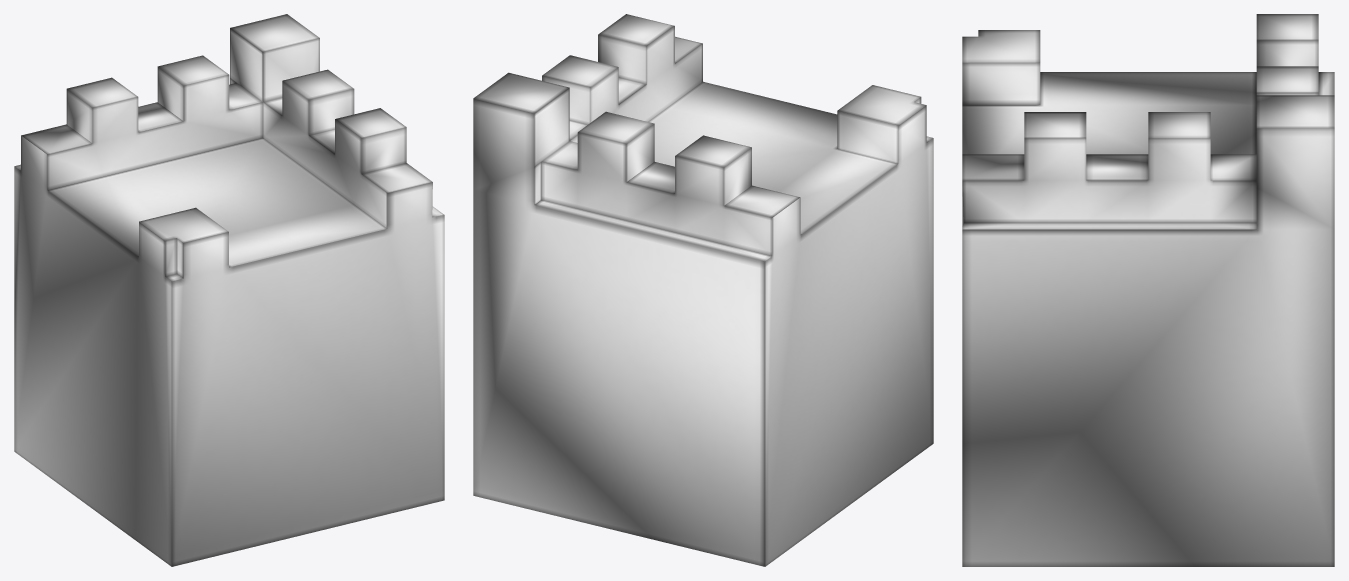
Rendered from Wall-03.fbx.
3 views of the same model, side by side, from view 1: azimuth 30°, elevation 25°; view 2: azimuth 150°, elevation 25°; view 3: azimuth 270°, elevation 25° (orthographic). The views are drawn at different scales.
Parts seen in each view (by area): view 1: Wall-03; view 2: Wall-03; view 3: Wall-03.
Part boxes in pixels (x1,y1,x2,y2): Wall-03: (14,14,444,566); Wall-03: (473,14,933,566); Wall-03: (962,14,1334,566).
Bounding box in the file's own units: 1 × 1.3 × 1.
